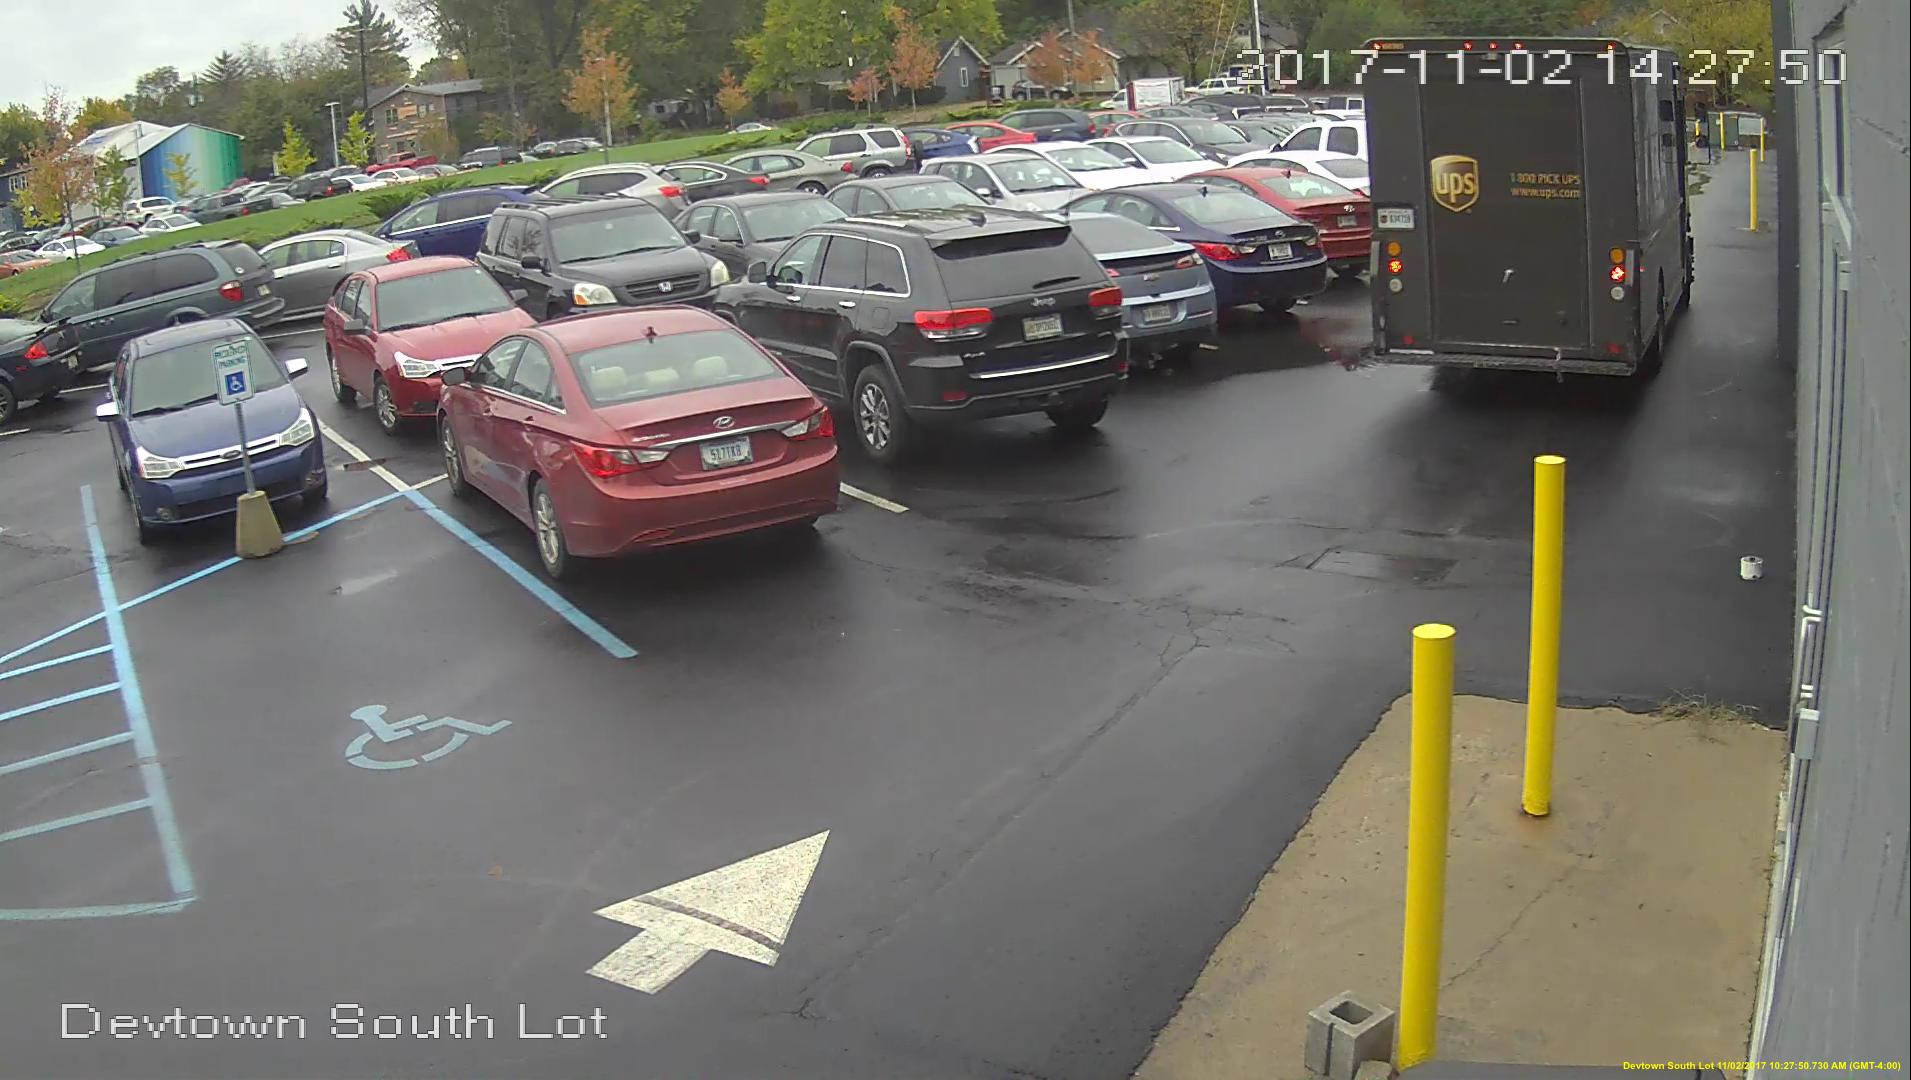ups_truck: (1365, 35, 1687, 390)
